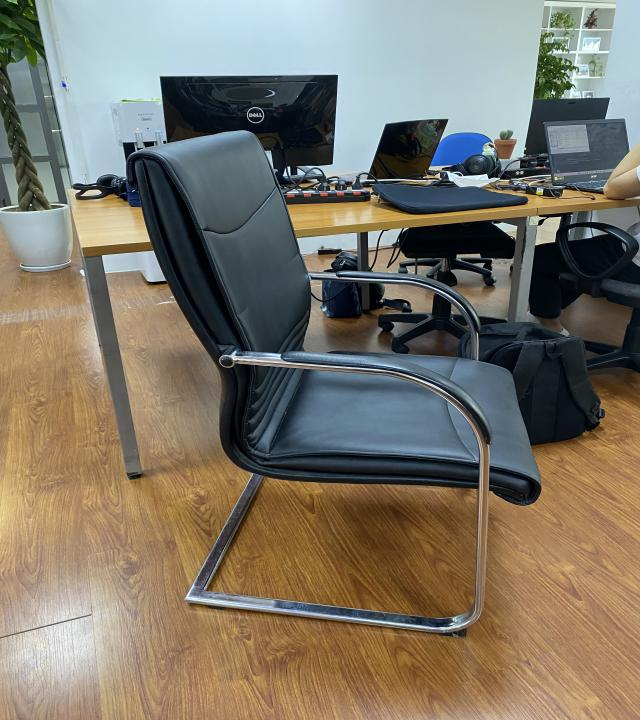SS_03: (122, 126, 546, 642)
